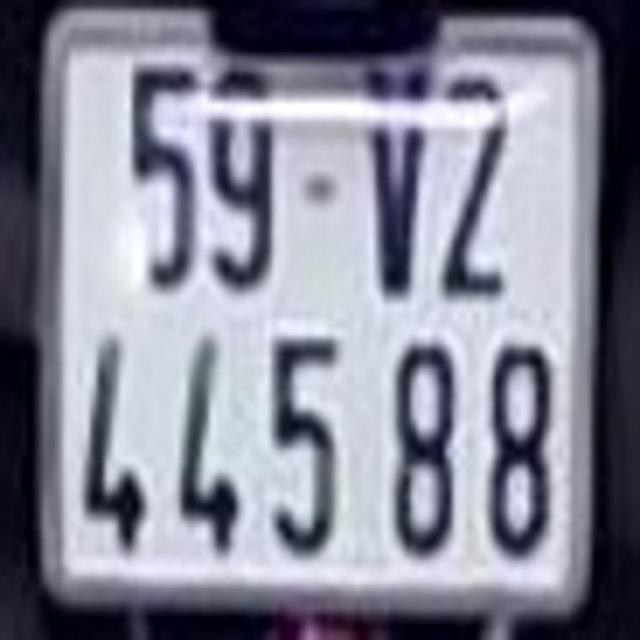2: (441, 72, 511, 299)
4: (177, 332, 243, 556), (83, 336, 148, 552)
5: (268, 330, 342, 556), (128, 62, 199, 290)
8: (390, 339, 457, 558), (487, 343, 553, 560)
9: (207, 68, 277, 293)
V: (361, 66, 433, 300)
